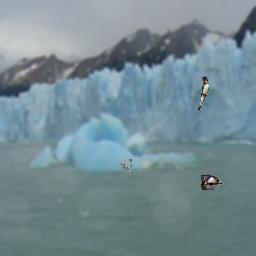Sparrow: (121, 159, 132, 175)
Swallow: (197, 76, 209, 116)
Woodpecker: (201, 174, 224, 190)
